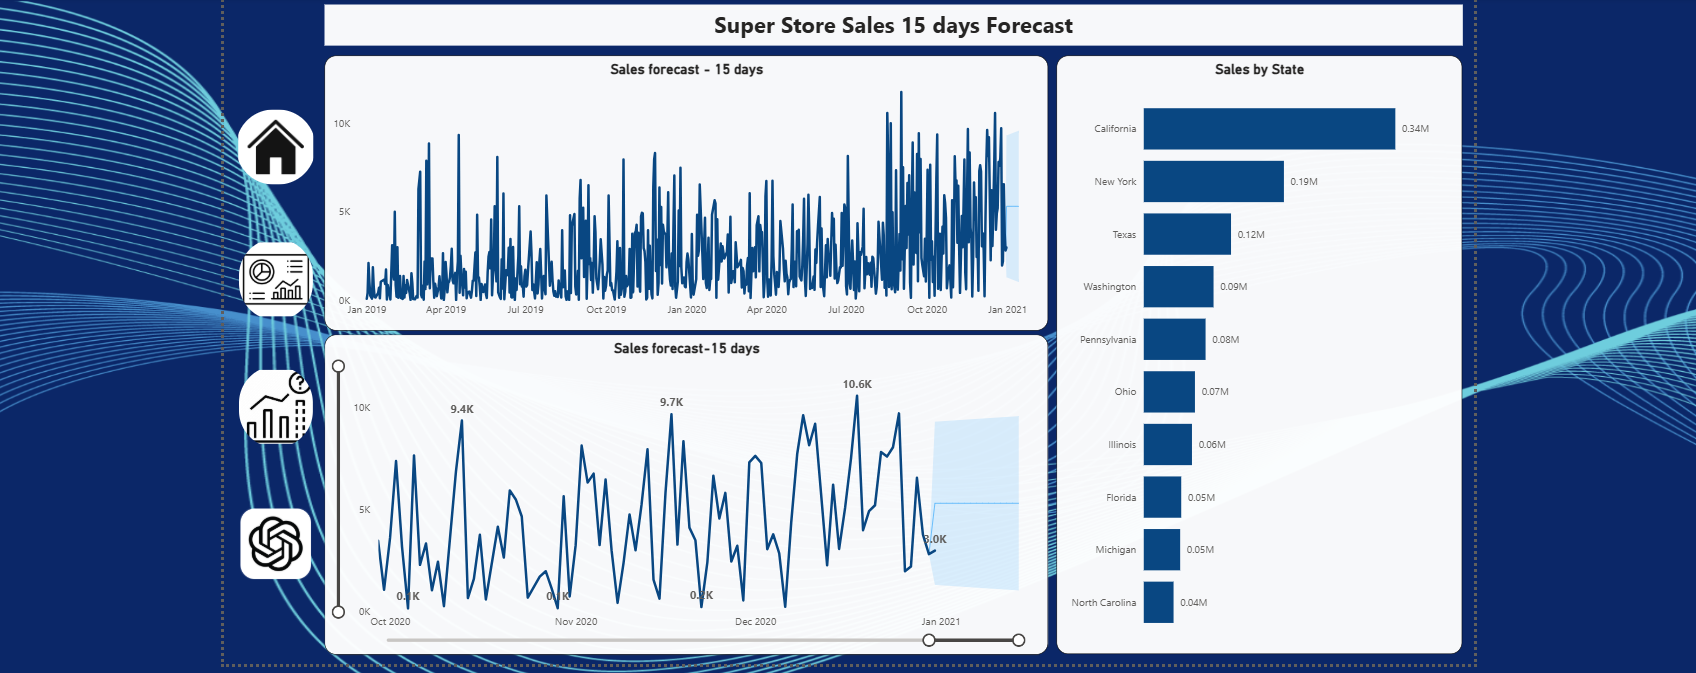

Layout of this report page (visuals, bound fields, positions):
{"tool":"powerbi","page":{"name":"Forecast","canvas":[1500,800],"ordinal":2},"visuals":[{"type":"lineChart","title":"Sales forecast - 15 days","fields":{"Y":["Sum(SuperStore_Sales_Dataset.Sales)"],"Category":["SuperStore_Sales_Dataset.Order Date"]},"box":[119.9,70.9,868,329.8],"z":0},{"type":"lineChart","title":"Sales forecast-15 days","fields":{"Y":["Sum(SuperStore_Sales_Dataset.Sales)"],"Category":["SuperStore_Sales_Dataset.Order Date"]},"box":[119.9,404.7,868,384.3],"z":1000},{"type":"clusteredBarChart","title":" Sales by State","fields":{"Category":["SuperStore_Sales_Dataset.State"],"Y":["Sum(SuperStore_Sales_Dataset.Sales)"]},"box":[998.8,70.9,486.5,718.1],"z":2000},{"type":"textbox","box":[119.9,9.5,1365.4,49.1],"z":3000},{"type":"image","box":[13.6,134.9,95.4,89.9],"z":4000},{"type":"image","box":[17.7,442.9,88.6,98.1],"z":5000},{"type":"image","box":[17.7,288.9,88.6,98.1],"z":6000},{"type":"image","box":[13.6,613.2,95.4,84.5],"z":7000}]}

Visuals, with their boxes in screenshot pixels (x1, y1, x2, y2):
"Sales forecast - 15 days" lineChart: [329,50,1047,323]
"Sales forecast-15 days" lineChart: [329,326,1047,644]
" Sales by State" clusteredBarChart: [1056,50,1459,644]
textbox: [329,0,1459,40]
image: [241,103,320,177]
image: [244,358,318,439]
image: [244,230,318,311]
image: [241,499,320,569]
